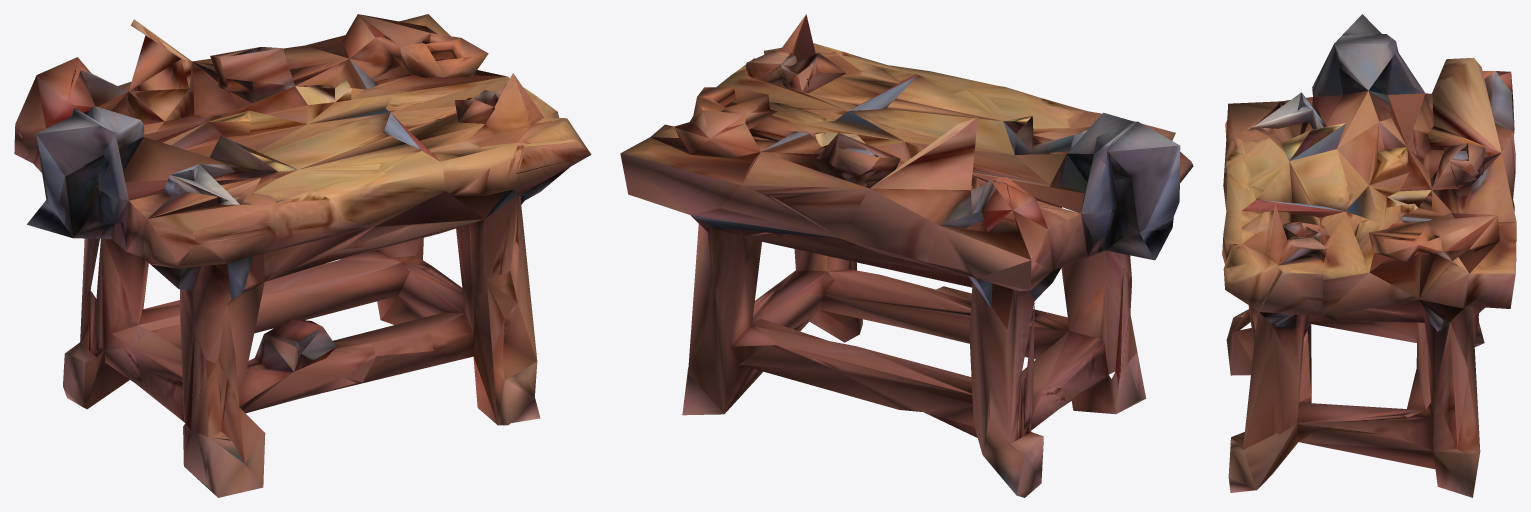
Rendered from workbench.glb.
3 renders of one model, left to right at view 1: azimuth 30°, elevation 25°; view 2: azimuth 150°, elevation 25°; view 3: azimuth 270°, elevation 25°, orthographic. The views are drawn at different scales.
Parts seen in each view (by area): view 1: tripo_node_bee6a9cc-32a2-4fe8-8cc8-1c2173570466; view 2: tripo_node_bee6a9cc-32a2-4fe8-8cc8-1c2173570466; view 3: tripo_node_bee6a9cc-32a2-4fe8-8cc8-1c2173570466.
Boxes of the visible parts, bbox=[...] form: tripo_node_bee6a9cc-32a2-4fe8-8cc8-1c2173570466: bbox=[14, 14, 591, 497]; tripo_node_bee6a9cc-32a2-4fe8-8cc8-1c2173570466: bbox=[620, 14, 1193, 497]; tripo_node_bee6a9cc-32a2-4fe8-8cc8-1c2173570466: bbox=[1222, 14, 1516, 497].
Size of the model in its own units: 0.9805 by 0.7156 by 0.5926.
Materials: 1 (1 with a texture image).
